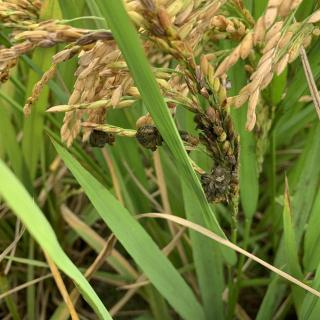Gosong-Palsu: (199, 167, 232, 203), (135, 124, 163, 152), (88, 128, 115, 148)
